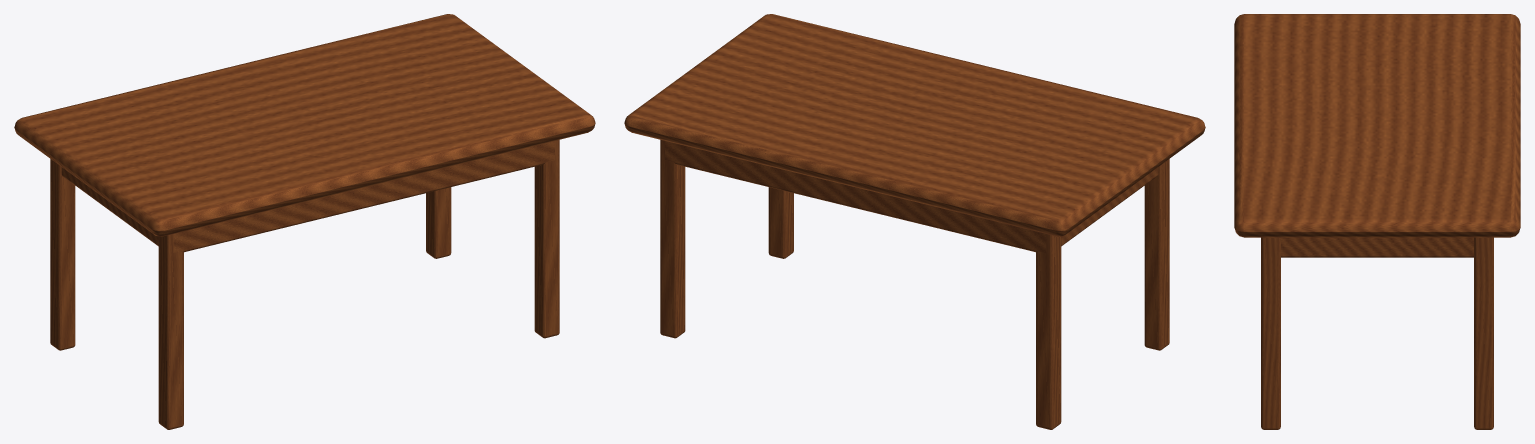
The model's file is Tripo_Table.fbx.
The picture shows the model from 3 angles, left to right: view 1: azimuth 30°, elevation 25°; view 2: azimuth 150°, elevation 25°; view 3: azimuth 270°, elevation 25°; orthographic projection.
Visible parts, largest first — view 1: table_mesh; view 2: table_mesh; view 3: table_mesh.
Part boxes in pixels (x1,y1,x2,y2): table_mesh: (14,14,595,429); table_mesh: (624,14,1205,429); table_mesh: (1234,14,1520,429).
Size of the model in its own units: 1.33 by 0.6448 by 0.76.
Materials: 1 (1 with a texture image).
